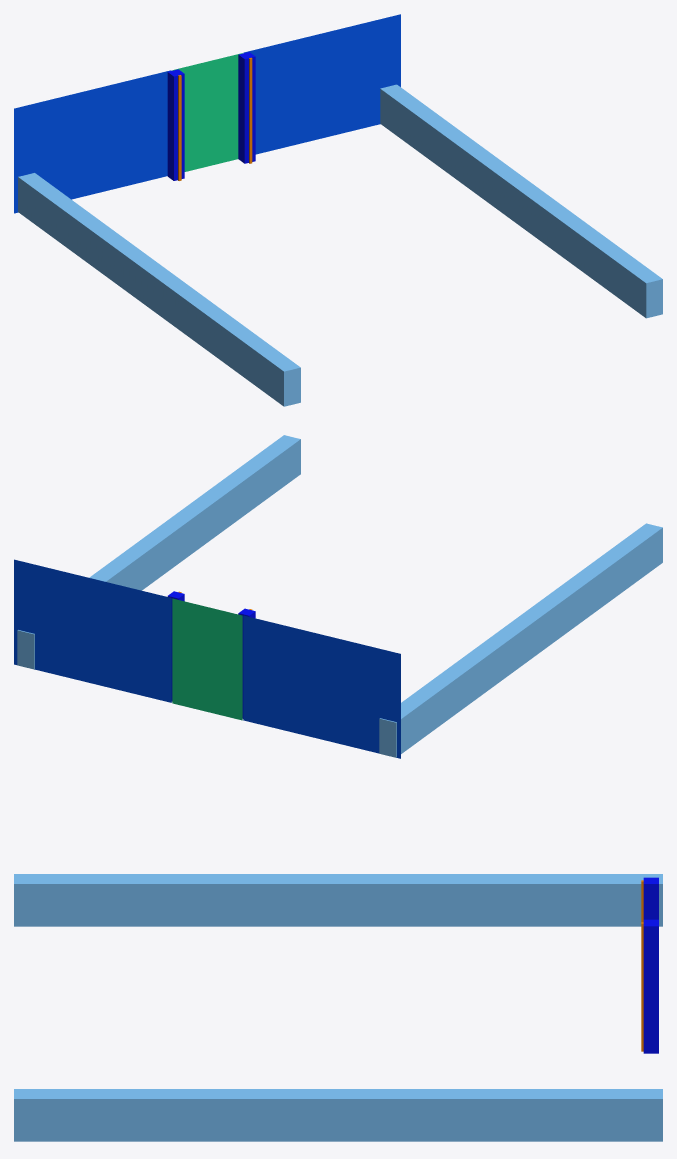
The model's file is Static Env Walls.FBX.
3 views of the same model, one above another, from view 1: azimuth 30°, elevation 25°; view 2: azimuth 150°, elevation 25°; view 3: azimuth 270°, elevation 25° (orthographic). The views are drawn at different scales.
Parts seen in each view (by area): view 1: Front Wall, R Wall, L Wall, Main Front Wall, R Piller, L Piller; view 2: Front Wall, L Wall, R Wall, Main Front Wall; view 3: R Wall, L Wall, R Piller, L Piller.
Part boxes in pixels (box(x1,y1,x2,y2)): Front Wall: box(14, 14, 400, 213); R Wall: box(380, 84, 662, 318); L Wall: box(18, 173, 300, 406); Main Front Wall: box(172, 53, 242, 171); R Piller: box(238, 52, 255, 163); L Piller: box(167, 69, 184, 180); Front Wall: box(14, 559, 400, 758); L Wall: box(379, 523, 662, 757); R Wall: box(17, 435, 300, 669); Main Front Wall: box(172, 598, 242, 720); R Wall: box(14, 1089, 662, 1141); L Wall: box(14, 874, 662, 926); R Piller: box(641, 919, 658, 1053); L Piller: box(641, 877, 658, 922).
Bounding box in the file's own units: 46.08 × 11.99 × 55.
